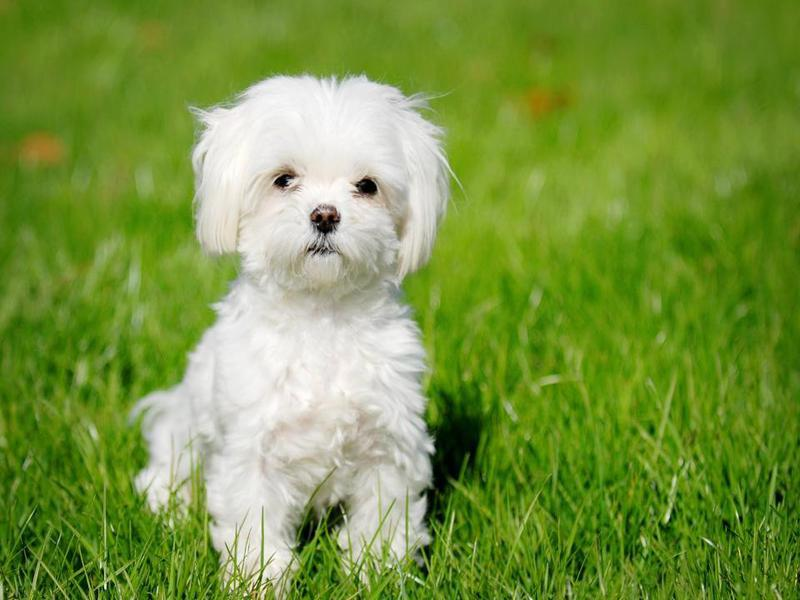dog: (135, 66, 458, 598)
